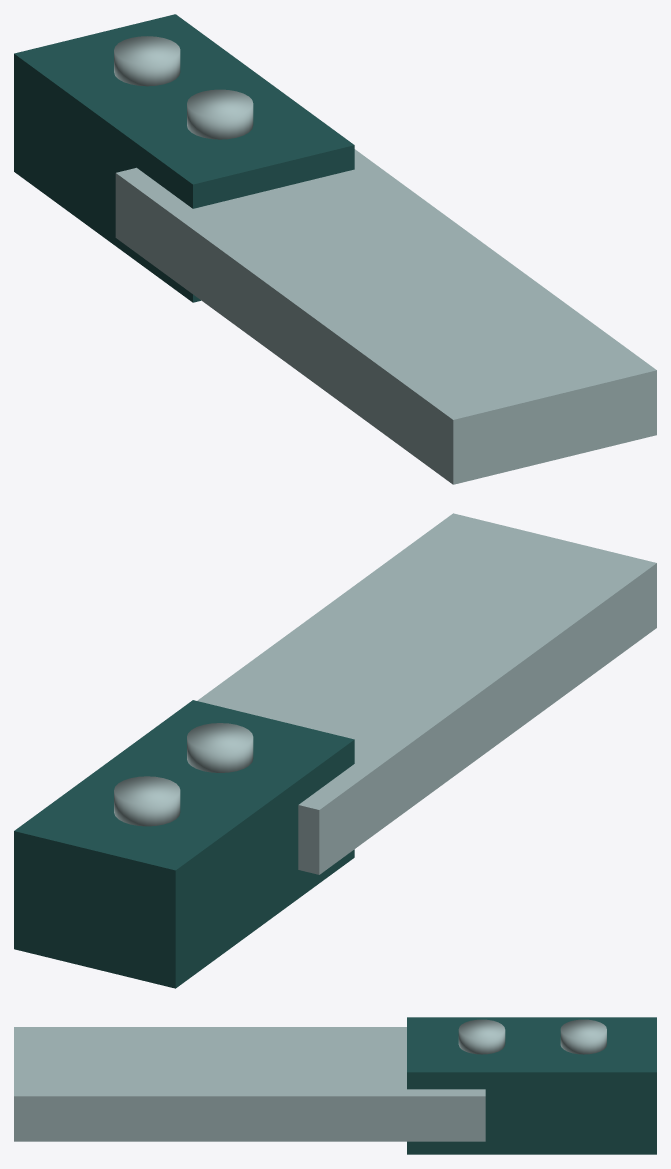
The model's file is Knife.glb.
3 renders of one model, top to bottom at view 1: azimuth 30°, elevation 25°; view 2: azimuth 150°, elevation 25°; view 3: azimuth 270°, elevation 25°, orthographic. The views are drawn at different scales.
Parts seen in each view (by area): view 1: Full tang, Handle grip, Handle rivet, Handle rivet.001; view 2: Full tang, Handle grip, Handle rivet.001, Handle rivet; view 3: Full tang, Handle grip, Handle rivet, Handle rivet.001.
Part boxes in pixels (x1,y1,x2,y2): Full tang: (115,149,656,484); Handle grip: (14,14,354,302); Handle rivet: (187,89,253,139); Handle rivet.001: (114,36,180,86); Full tang: (197,513,656,874); Handle grip: (14,700,354,988); Handle rivet.001: (114,776,180,826); Handle rivet: (187,723,253,772); Full tang: (14,1027,485,1141); Handle grip: (407,1017,656,1154); Handle rivet: (458,1019,505,1054); Handle rivet.001: (560,1019,606,1054).
Size of the model in its own units: 0.092 by 0.0605 by 0.36.
